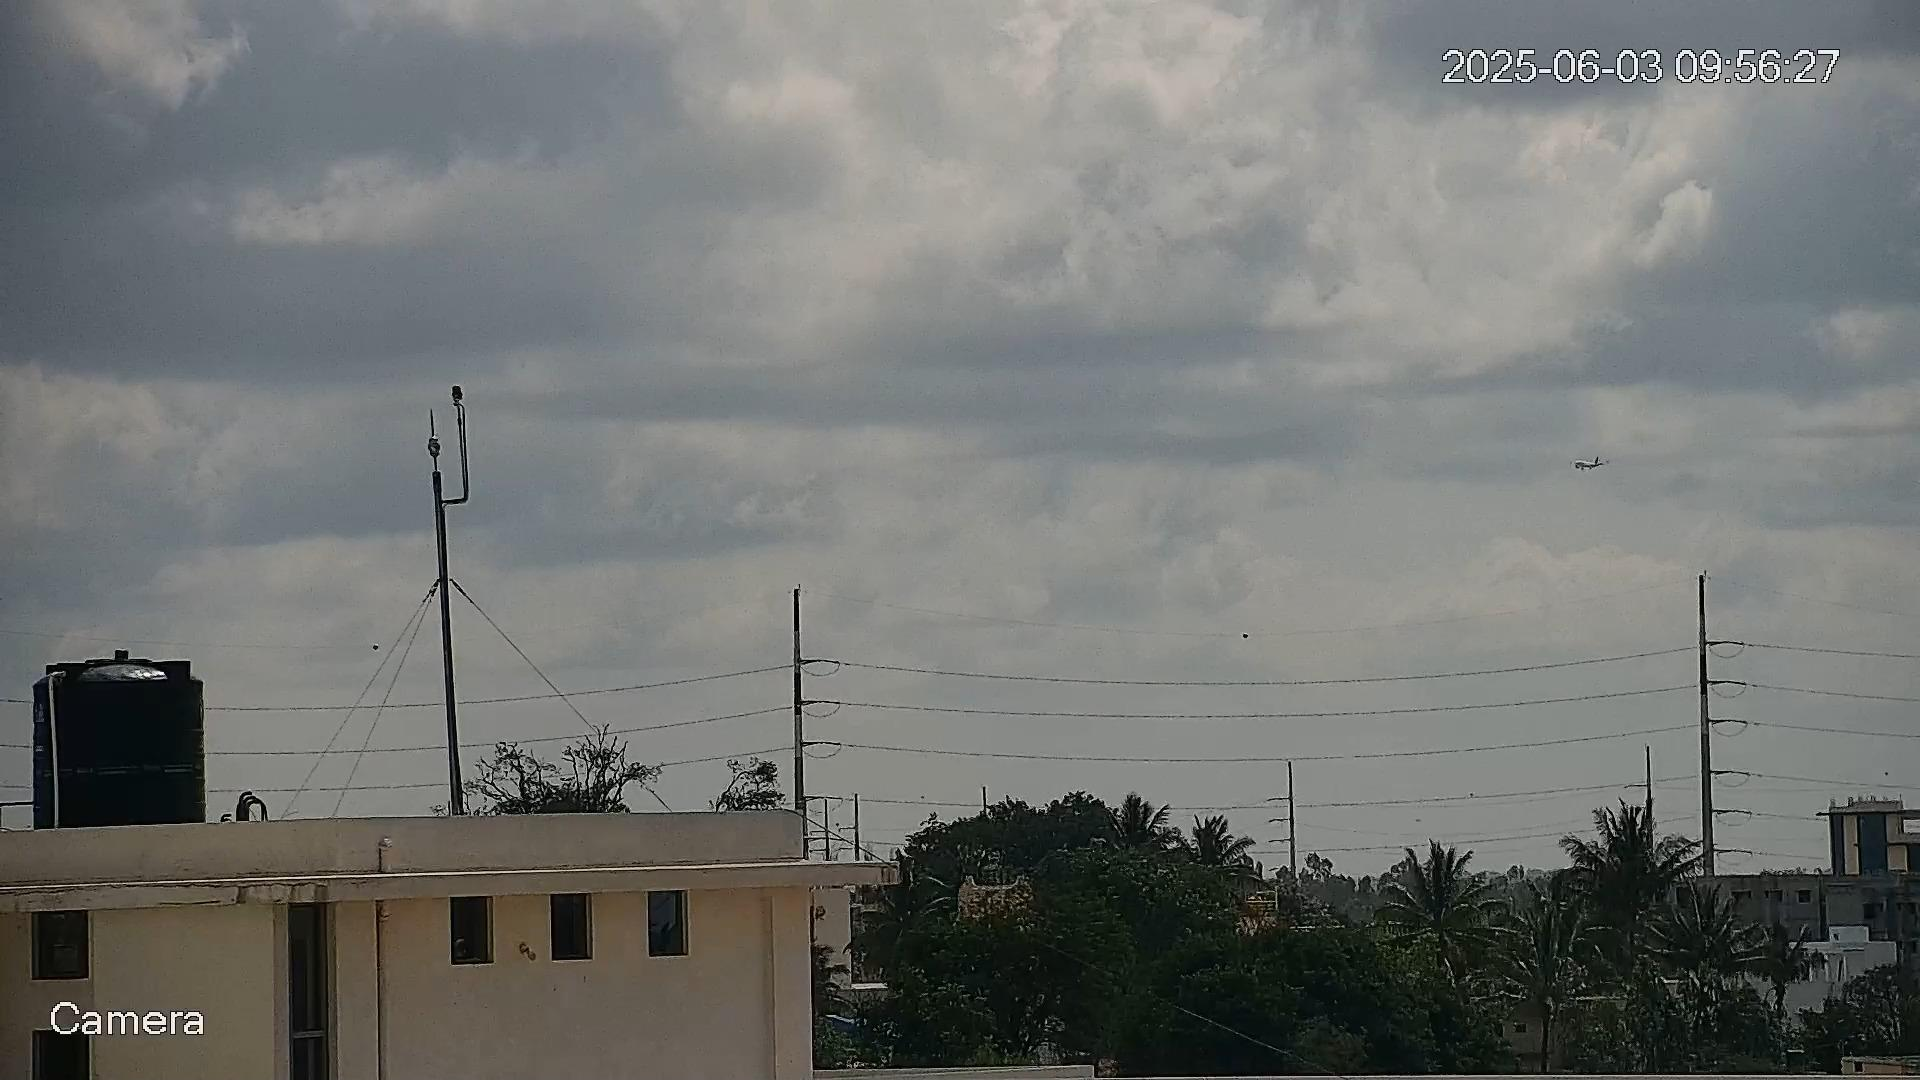Aircraft: (1571, 456, 1607, 471)
